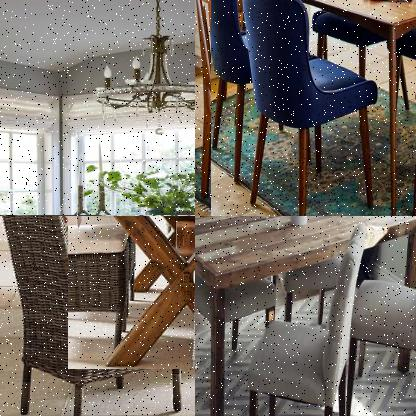table: (211, 0, 415, 215), (195, 216, 415, 415), (68, 216, 194, 371)
